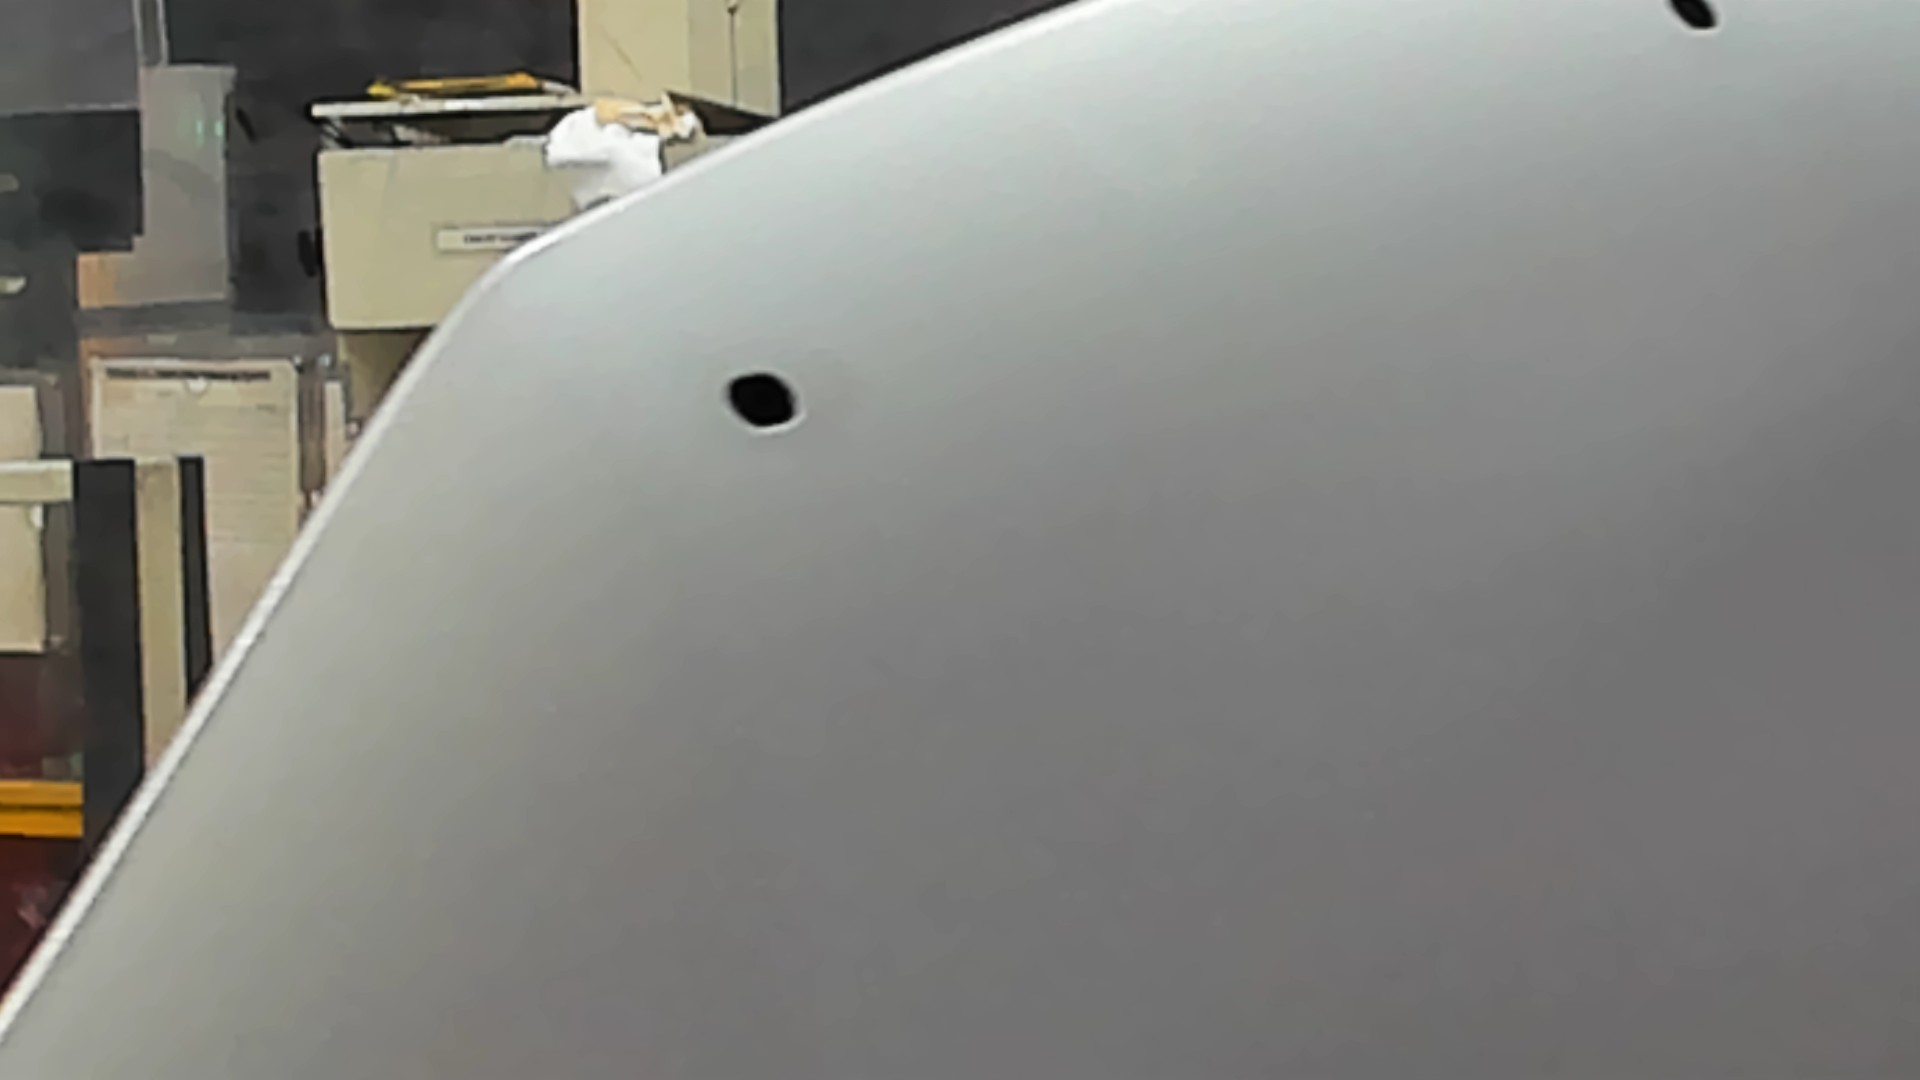Agujero: (713, 367, 807, 434), (1659, 1, 1729, 37)
